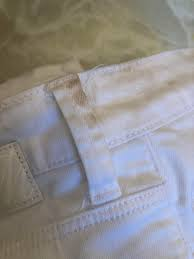earth: (118, 95, 149, 113), (68, 82, 87, 108), (87, 109, 109, 128), (166, 79, 186, 93)
